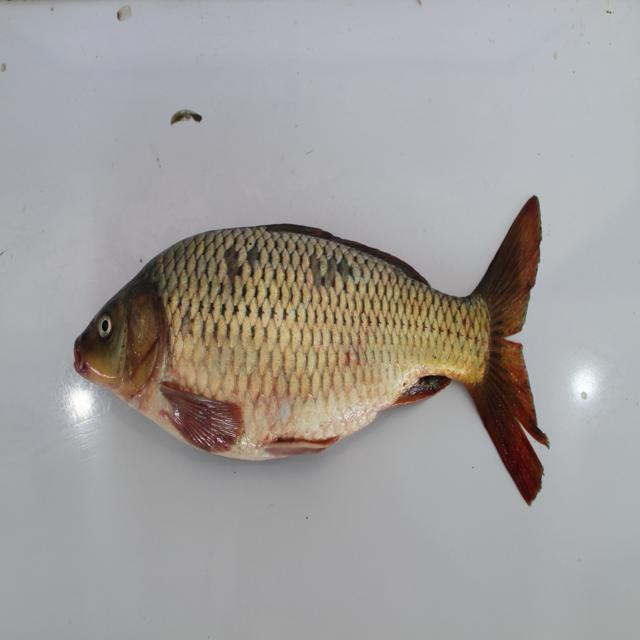CommonCarp: (61, 201, 568, 520)
